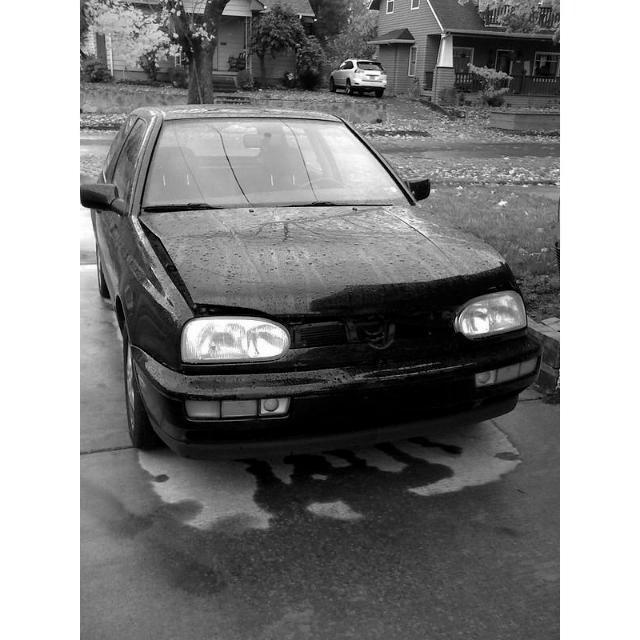bonnet-dent: (153, 212, 451, 327)
